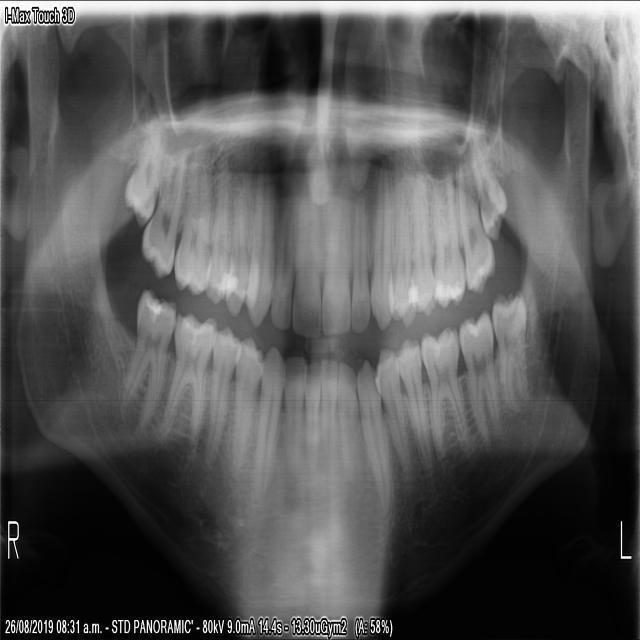LCD: (352, 354, 390, 518)
LCU: (366, 157, 391, 334)
LID: (333, 360, 355, 519), (317, 356, 336, 513)
LIU: (318, 184, 349, 340), (347, 191, 369, 334)
LMD: (417, 322, 464, 455), (456, 305, 498, 441), (489, 285, 526, 412)
LMU: (428, 162, 464, 310), (454, 165, 493, 295), (469, 137, 505, 243)
LPMD: (371, 342, 411, 491), (392, 332, 431, 477)
LPMU: (384, 161, 416, 331), (405, 167, 436, 316)
RCD: (250, 341, 285, 511)
RCU: (241, 164, 276, 329)
RID: (278, 353, 304, 524), (300, 357, 321, 507)
RIU: (288, 185, 320, 339), (267, 185, 293, 330)
RMD: (118, 283, 175, 437), (159, 308, 215, 453)
RMU: (171, 135, 211, 295), (138, 143, 185, 278), (120, 129, 161, 228)
RPMD: (202, 321, 239, 471), (228, 335, 264, 477)
RPMU: (200, 153, 236, 306), (222, 161, 248, 316)
